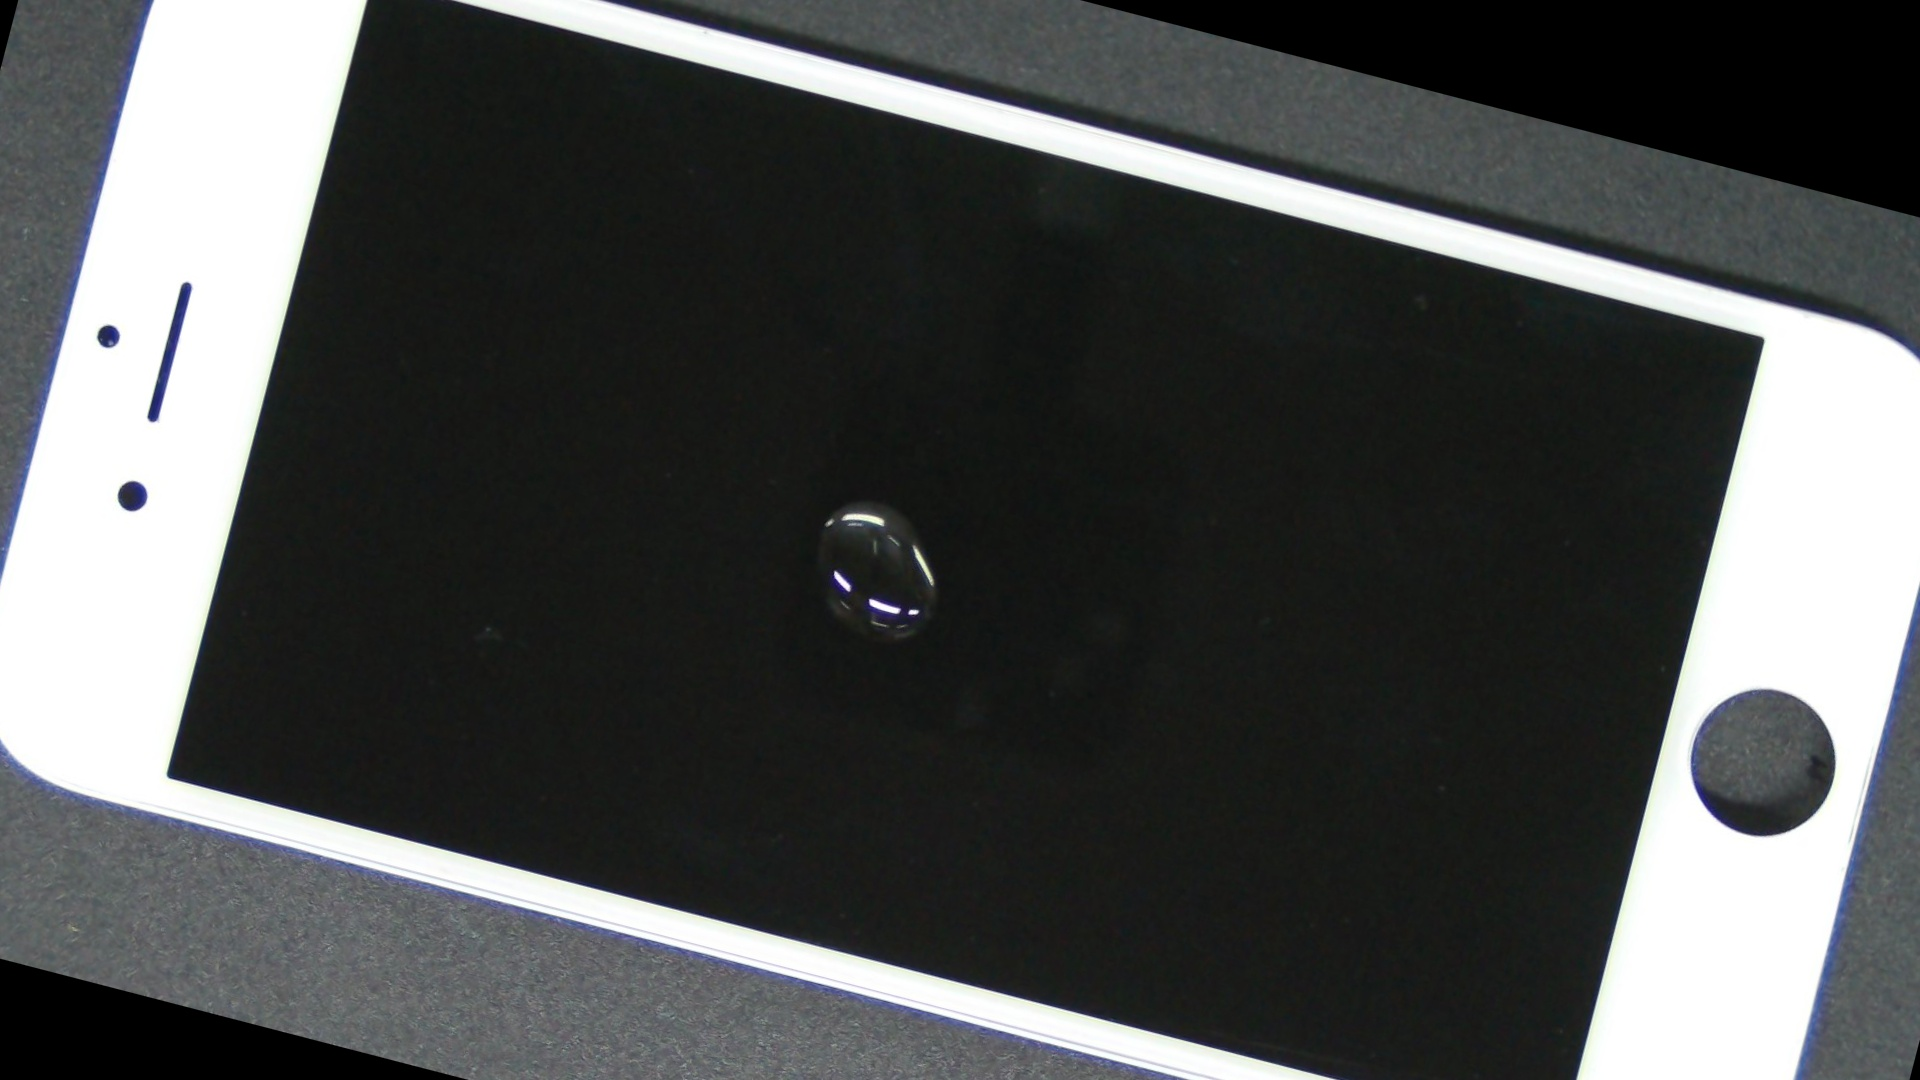oil: (345, 123, 1404, 884)
